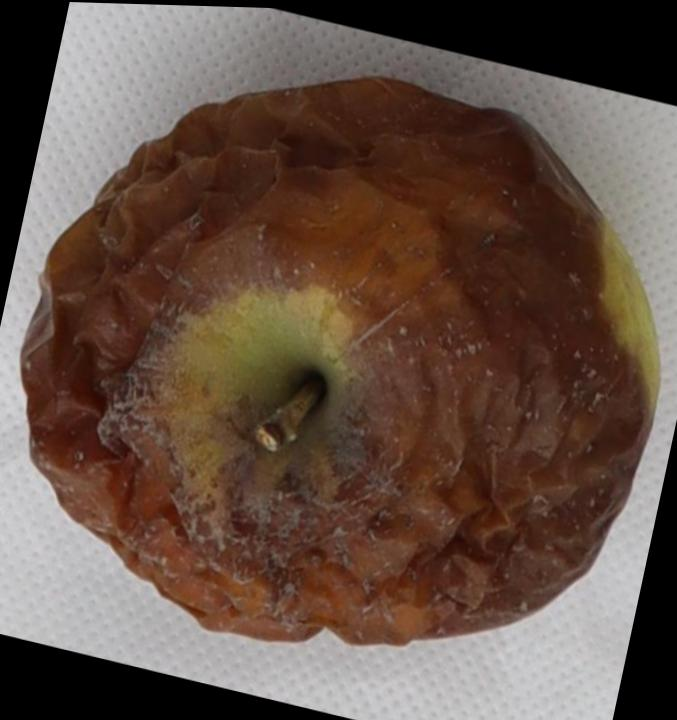apple: (20, 77, 657, 645)
rot_mold_decay: (21, 81, 647, 643)
